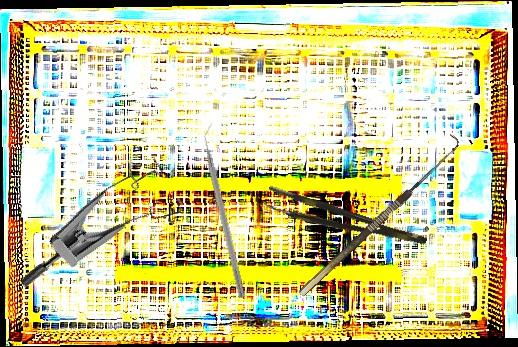Chopper: (198, 120, 255, 300)
Hook Surgical: (290, 133, 465, 297)
Speculum: (17, 136, 197, 336)
Tissue Forceps: (262, 184, 429, 260)
